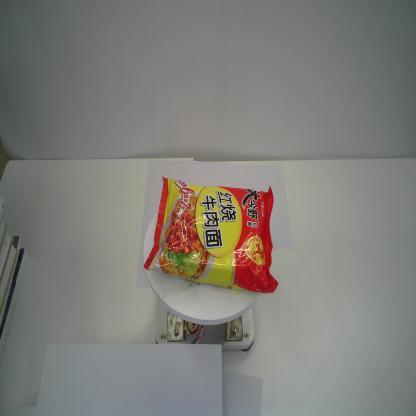Instant Noodles: (142, 175, 279, 294)
